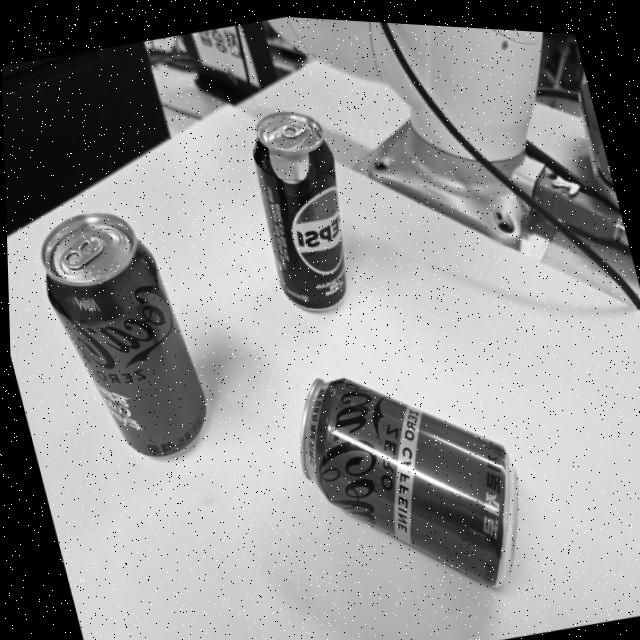can_coke_decaf: (300, 374, 520, 593)
can_coke_zero: (41, 212, 210, 460)
can_pepsi_zero: (252, 110, 348, 312)
